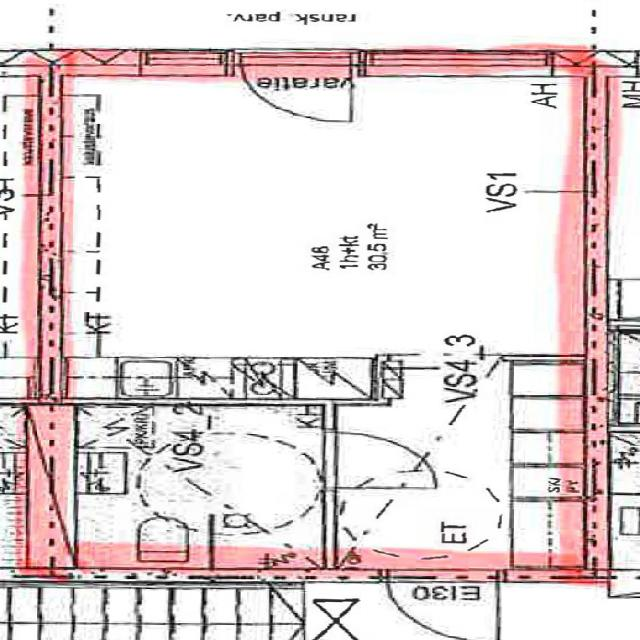door: (246, 50, 351, 133), (390, 569, 498, 640), (323, 432, 436, 486)
